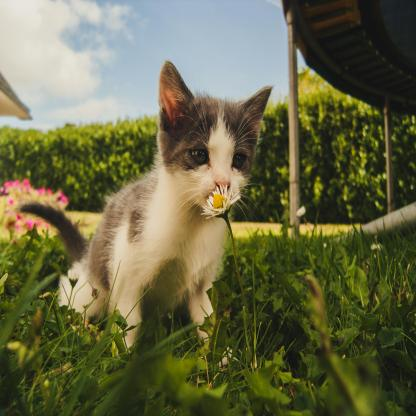cat: (12, 57, 276, 348)
